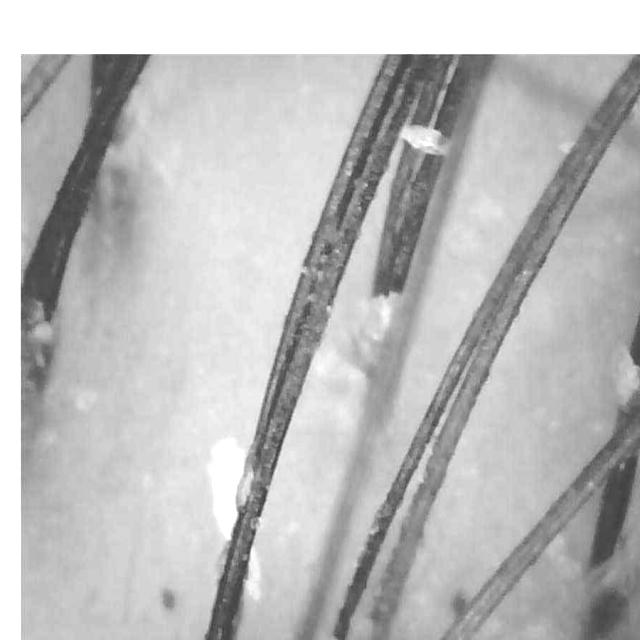d: (209, 438, 246, 540), (209, 438, 245, 540), (358, 293, 400, 375), (612, 349, 640, 408), (400, 125, 450, 155), (245, 551, 261, 602), (29, 322, 52, 344)
